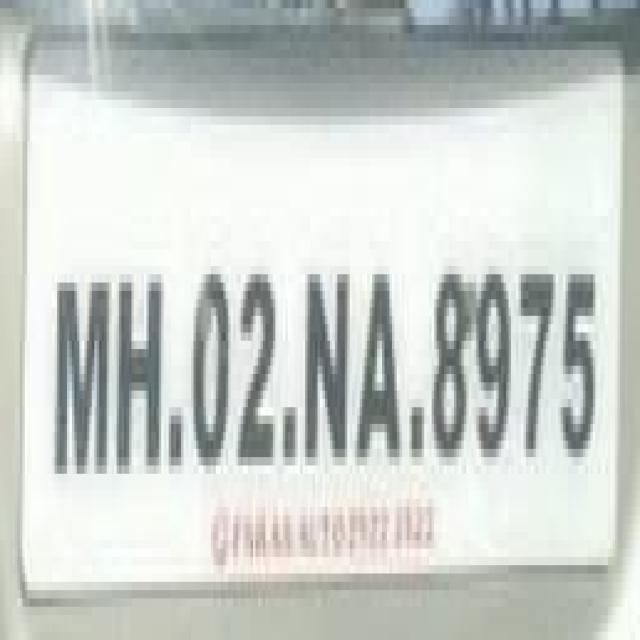plate: (32, 50, 633, 573)
